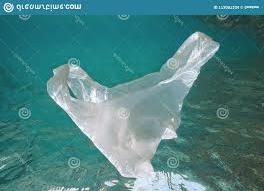Trash: (43, 33, 241, 180)
